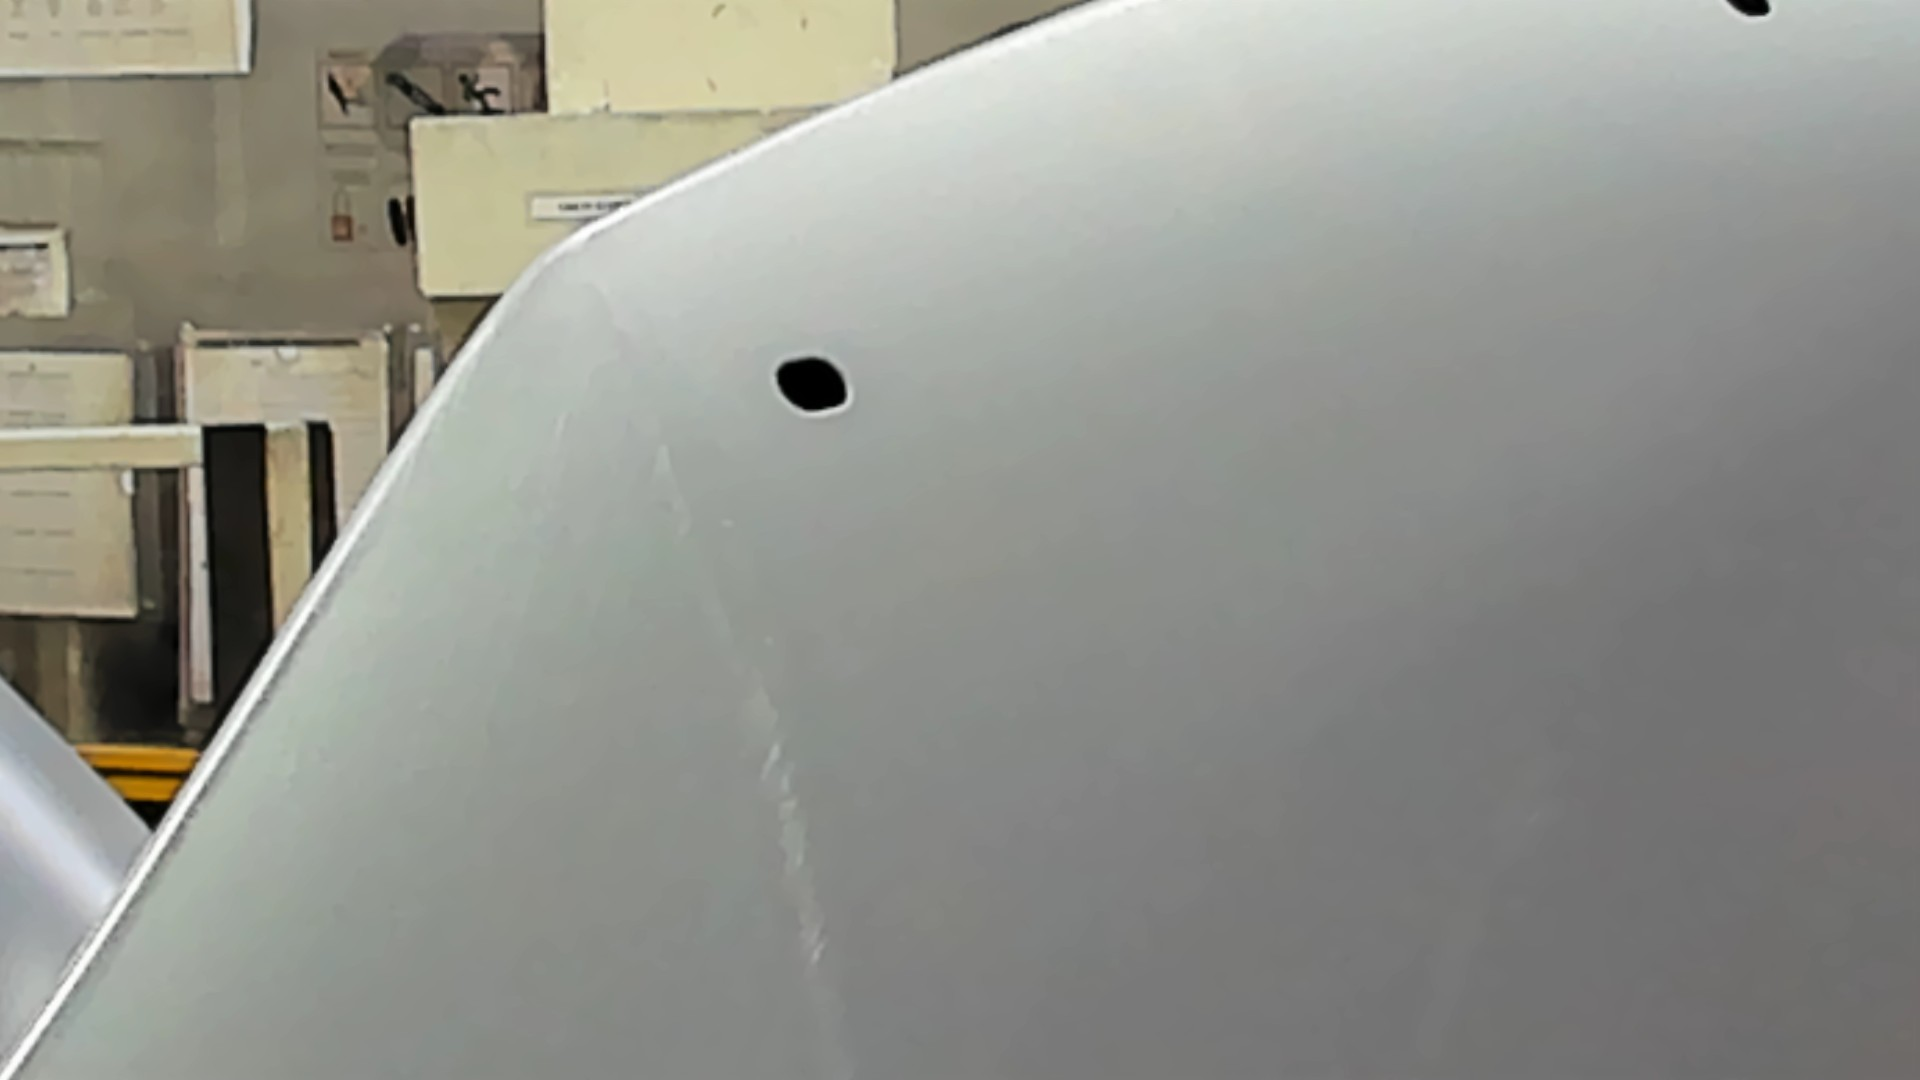amorfo: (769, 349, 855, 418), (1729, 1, 1780, 22)
